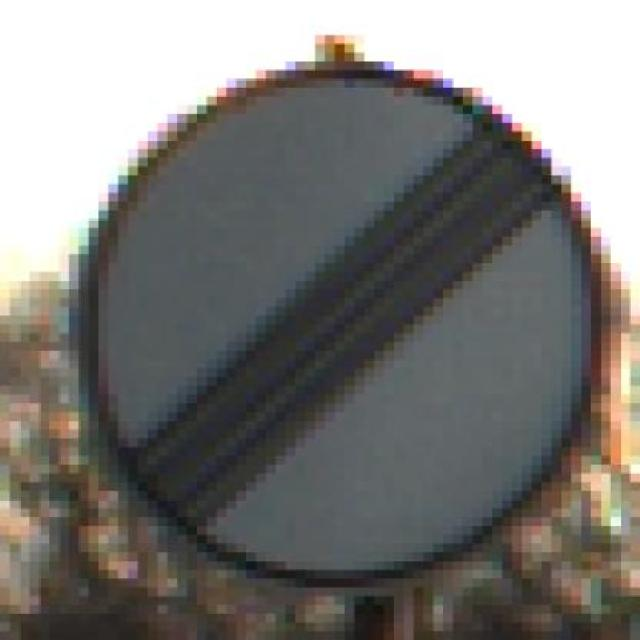End of all speed and passing limits: (59, 35, 610, 596)
